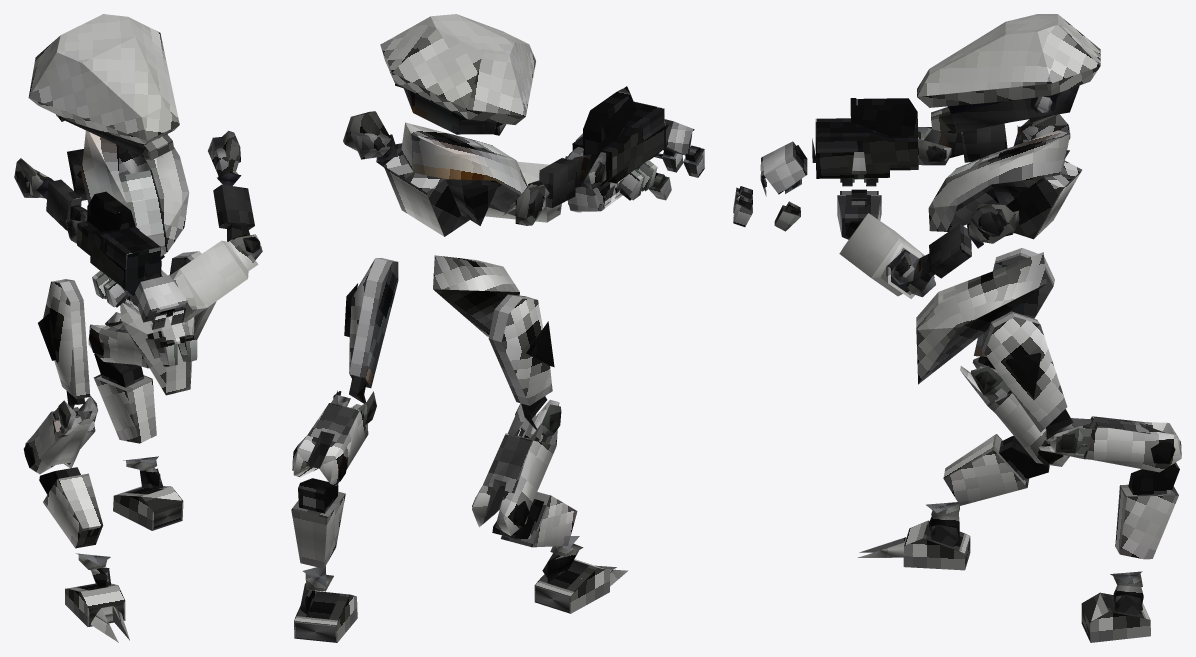
File: npc-militor-lod.glb
3 views of the same model, side by side, from view 1: azimuth 30°, elevation 25°; view 2: azimuth 150°, elevation 25°; view 3: azimuth 270°, elevation 25° (orthographic). The views are drawn at different scales.
Visible parts, largest first — view 1: Object_7_baked; view 2: Object_7_baked; view 3: Object_7_baked.
Part boxes in pixels (x1=…): Object_7_baked: x1=14, y1=14, x2=262, y2=642; Object_7_baked: x1=291, y1=14, x2=704, y2=642; Object_7_baked: x1=733, y1=14, x2=1181, y2=642.
Bounding box in the file's own units: 0.5193 × 1.31 × 0.9361.
1 material, 1 textured.
